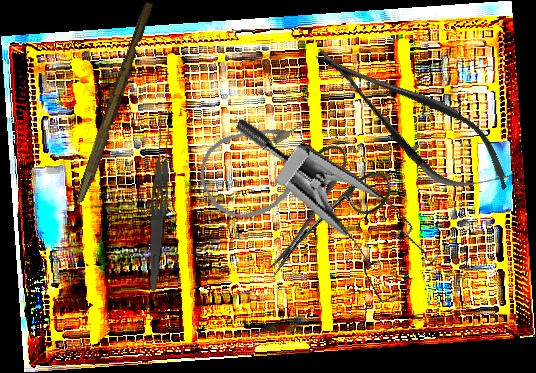Cannula: (188, 102, 332, 233)
Dressing Forceps: (146, 124, 174, 292)
Iris Scissors: (238, 132, 399, 303)
Micro Scissor: (299, 21, 527, 218)
Scalpel Handle: (75, 0, 155, 205)
Speculum: (195, 116, 459, 316)
